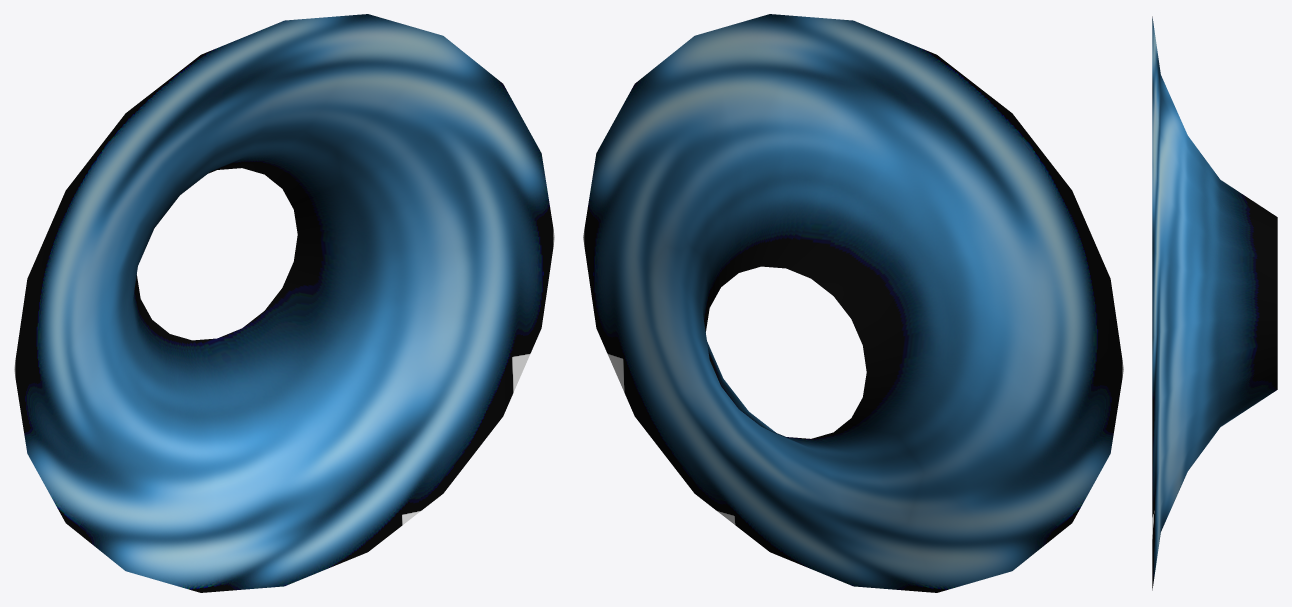
The model's file is Prop_zPortalSwirl_01.dae.
3 renders of one model, left to right at view 1: azimuth 30°, elevation 25°; view 2: azimuth 150°, elevation 25°; view 3: azimuth 270°, elevation 25°, orthographic. The views are drawn at different scales.
Visible parts, largest first — view 1: zPortal_swirl; view 2: zPortal_swirl; view 3: zPortal_swirl.
Part boxes in pixels (x1,y1,x2,y2): zPortal_swirl: (14,14,554,592); zPortal_swirl: (583,14,1123,592); zPortal_swirl: (1152,16,1277,590).
Bounding box in the file's own units: 0.9708 × 0.9708 × 0.2091.
1 material, 1 textured.
